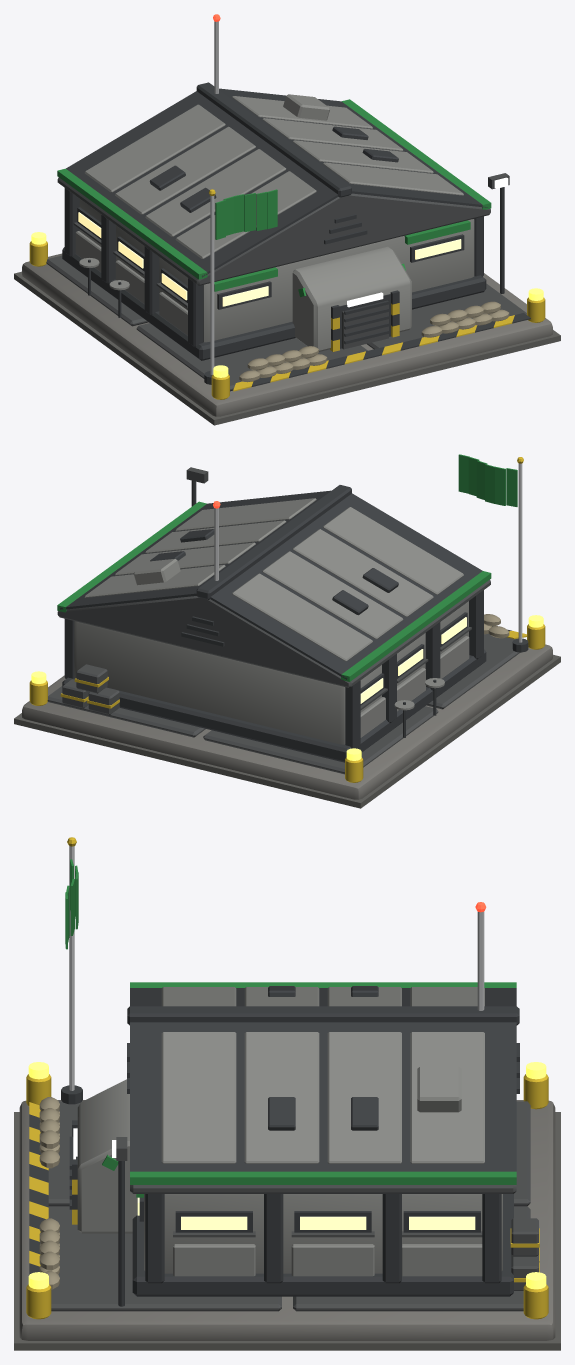
Rendered from barracks.glb.
3 renders of one model, top to bottom at view 1: azimuth 30°, elevation 25°; view 2: azimuth 150°, elevation 25°; view 3: azimuth 270°, elevation 25°, orthographic. The views are drawn at different scales.
Parts seen in each view (by area): view 1: Barracks_Walls, Barracks_Foundation, Barracks_Details, Barracks_Frame; view 2: Barracks_Walls, Barracks_Foundation, Barracks_Details, Barracks_Frame; view 3: Barracks_Walls, Barracks_Foundation, Barracks_Details, Barracks_Frame.
Boxes of the visible parts, x1,y1,x2,y2 form: Barracks_Walls: (57, 82, 491, 351); Barracks_Foundation: (14, 232, 560, 425); Barracks_Details: (73, 14, 509, 384); Barracks_Frame: (62, 188, 486, 360); Barracks_Walls: (57, 485, 491, 744); Barracks_Foundation: (14, 615, 560, 808); Barracks_Details: (60, 454, 528, 737); Barracks_Frame: (62, 590, 486, 762); Barracks_Walls: (77, 982, 519, 1273); Barracks_Foundation: (14, 1062, 560, 1350); Barracks_Details: (39, 837, 539, 1306); Barracks_Frame: (132, 1193, 513, 1296).
Bounding box in the file's own units: 1.98 × 1.33 × 1.98.
